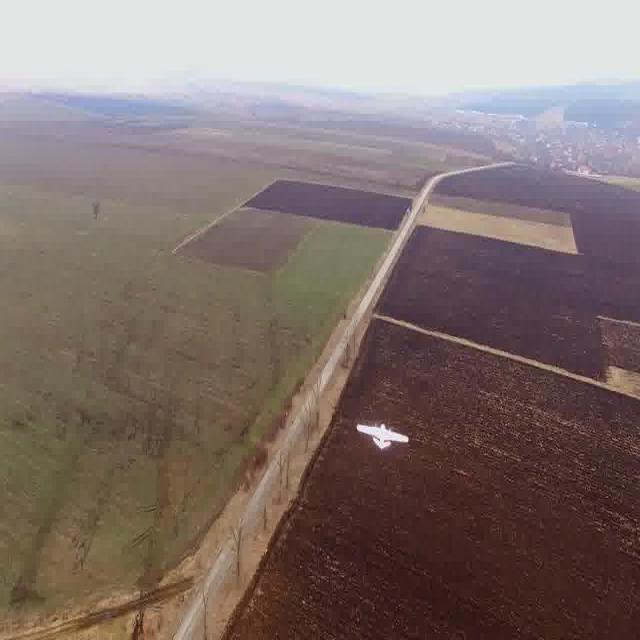iha: (352, 414, 414, 462)
